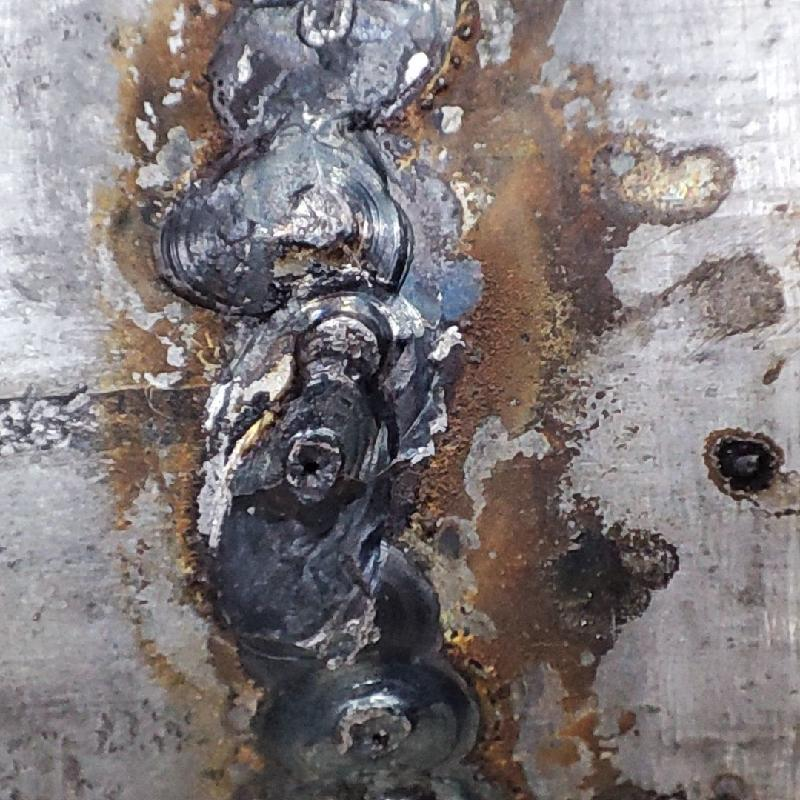Surface_pores: (288, 440, 338, 488)
wrong_size: (164, 4, 484, 795)
